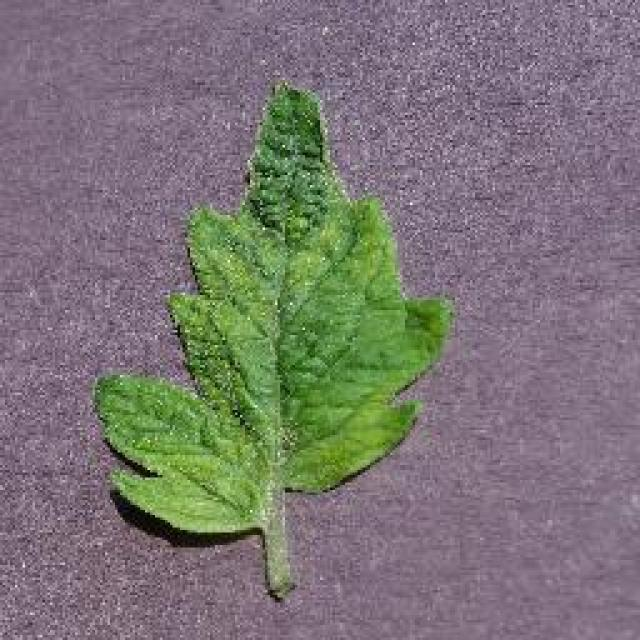Tomato mosaic virus leaf: (94, 83, 453, 537)
